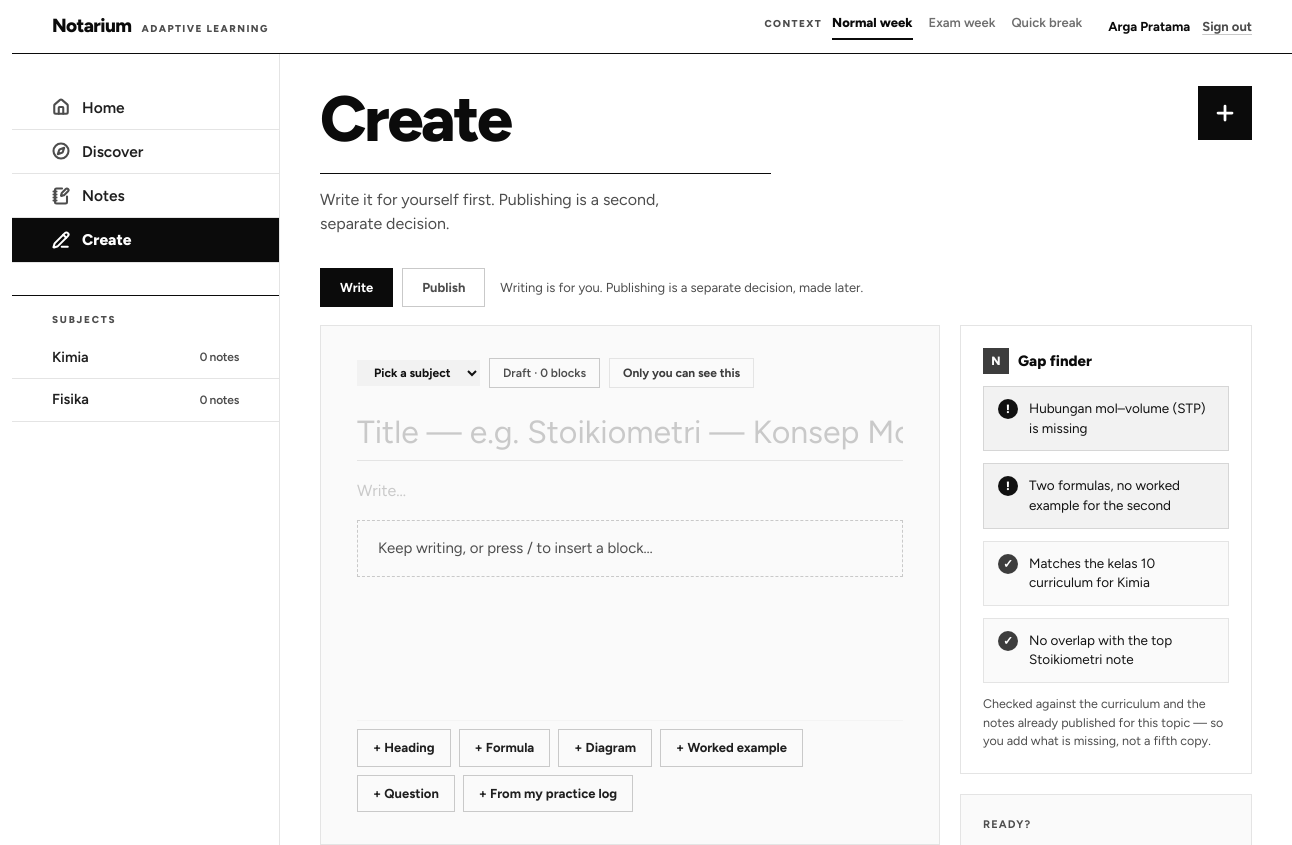
Test: Create keeps a draft per account in this tab (W5.5, Feature A) › survives in-app navigation (even mid-debounce) and is offered on return
Type "Half a second" into the field labelled "Title". click: (630, 433)
box: [357,404,903,461]
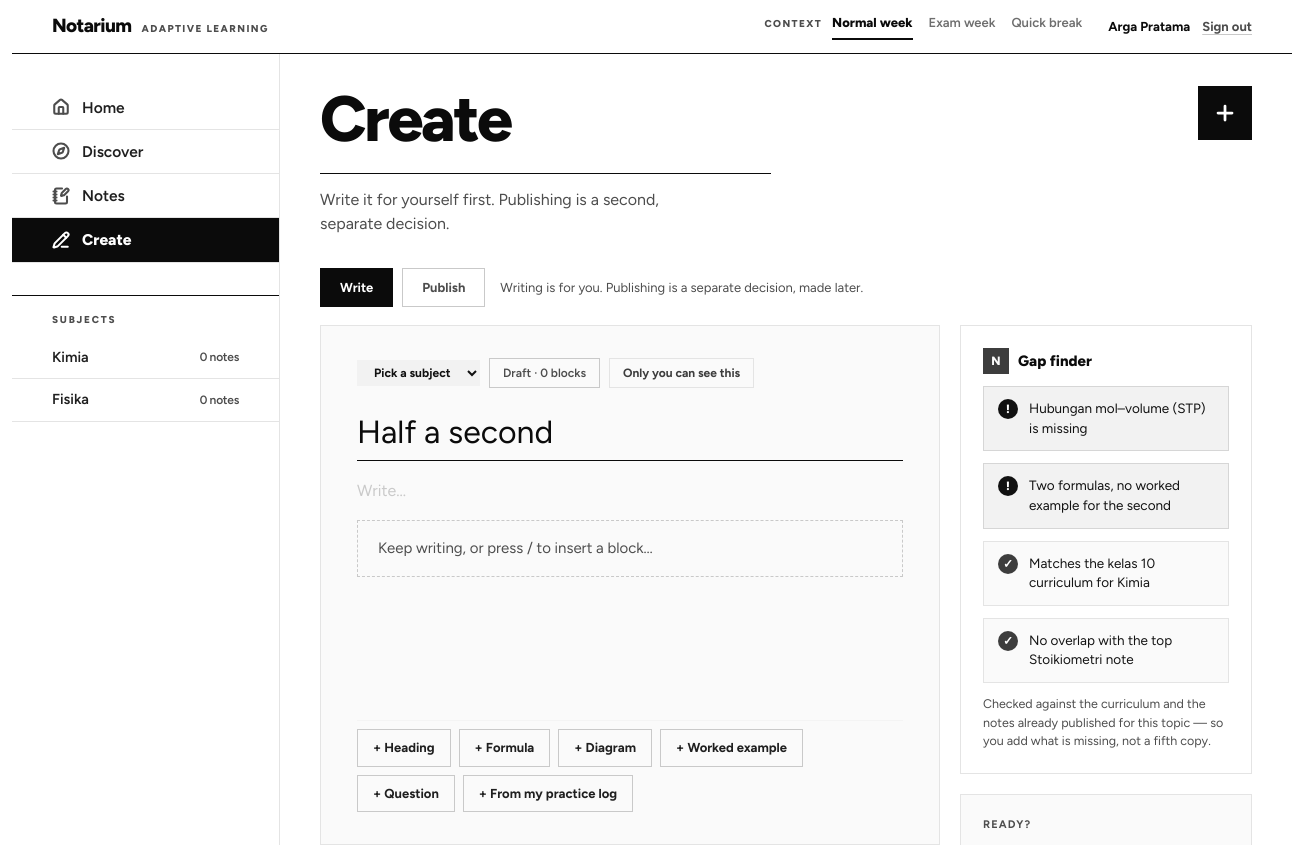
Click the link "Notes". click: (103, 196)
box: [12,174,279,218]
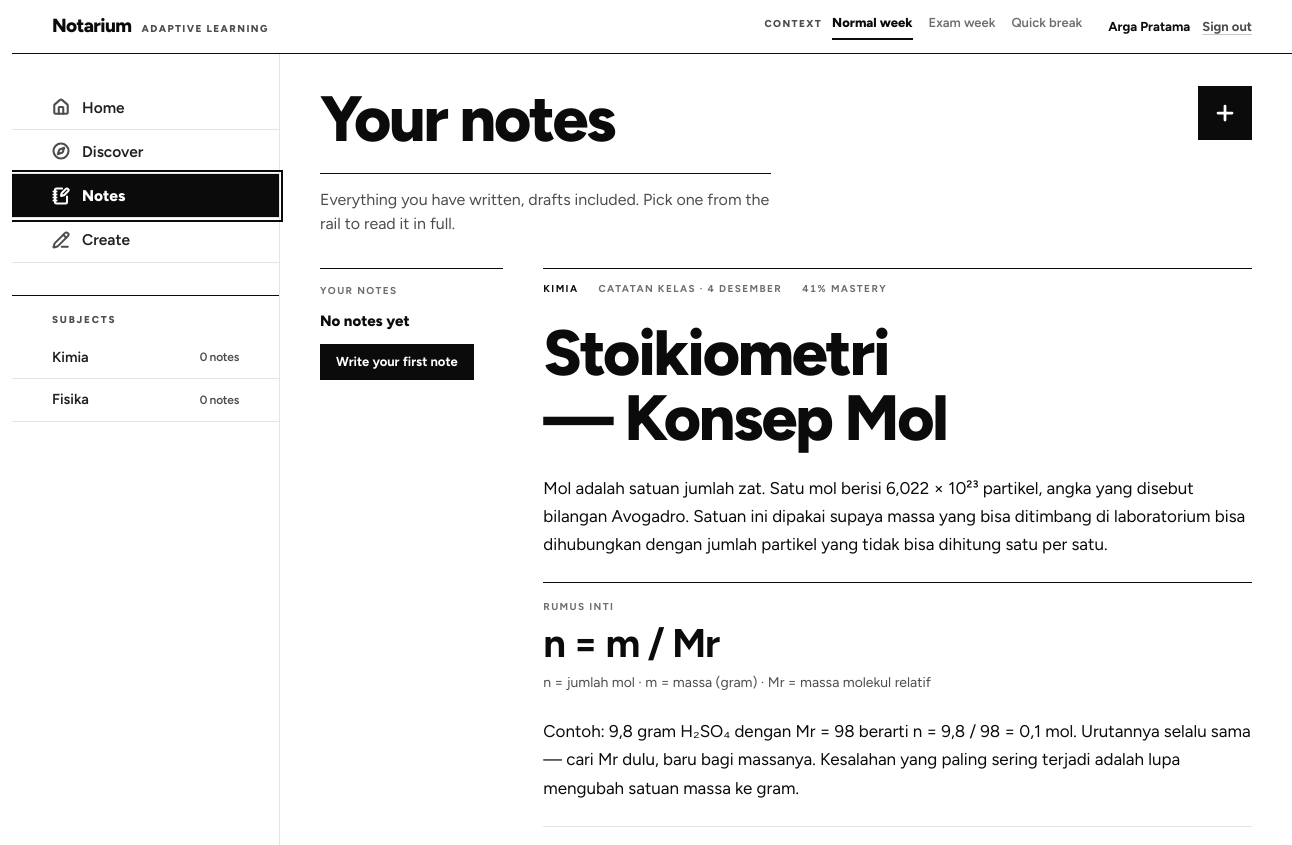
Click the link "Create". click: (106, 240)
box: [12,218,279,263]
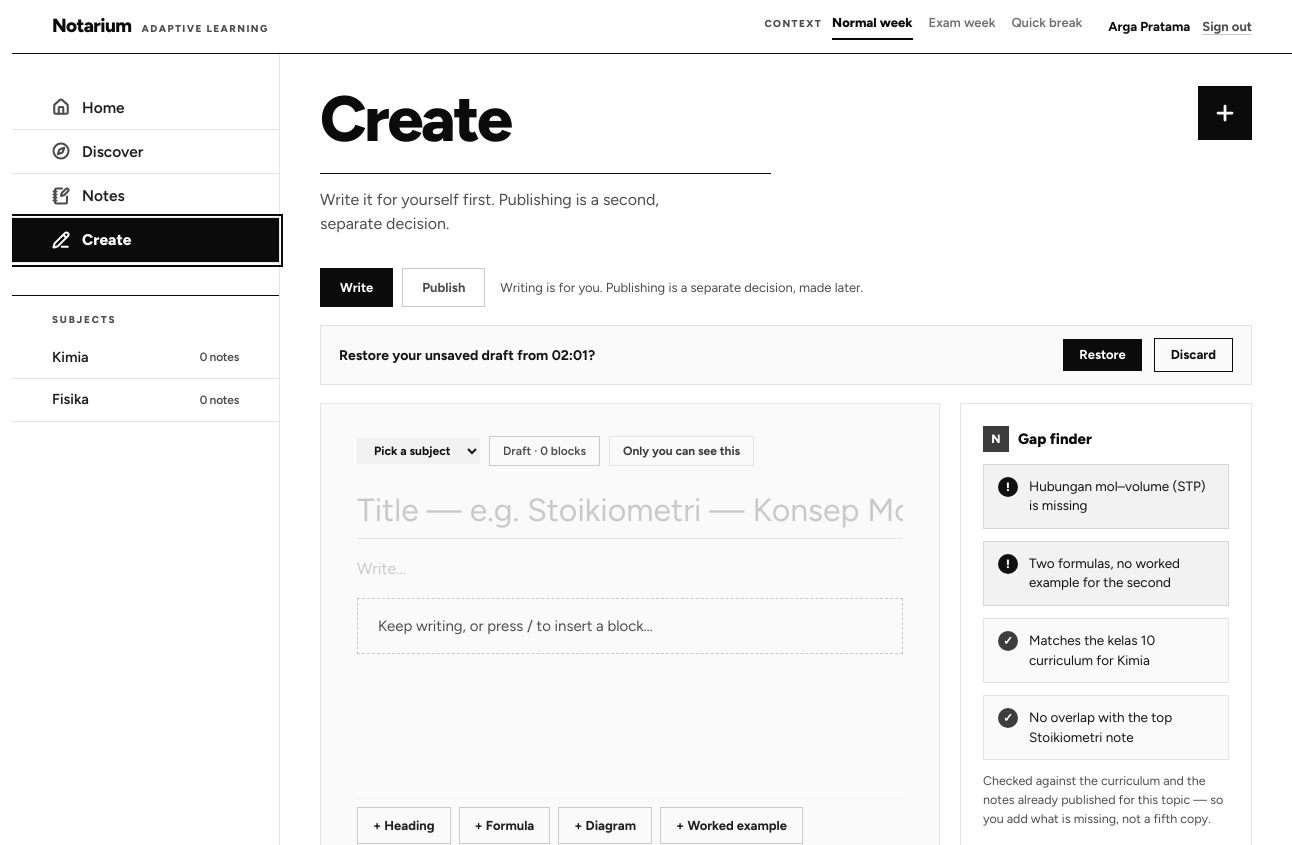
expect the message reads "Restore your unsaved draft from 02:01? Restore Discard": met, box [320,325,1252,385]
expect the field labelled "Title" is empty: met, box [357,482,903,539]
